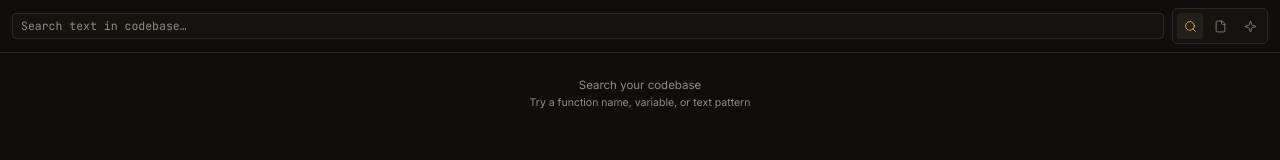
Test case: SearchPanel › ignores stale responses after switching search modes
The width and height of the screenshot is (1280, 160).
Type "authenticate" into the field at {"x": 588, "y": 26}, box x1=12 y1=13 x2=1164 y2=39
Wait 300 ms
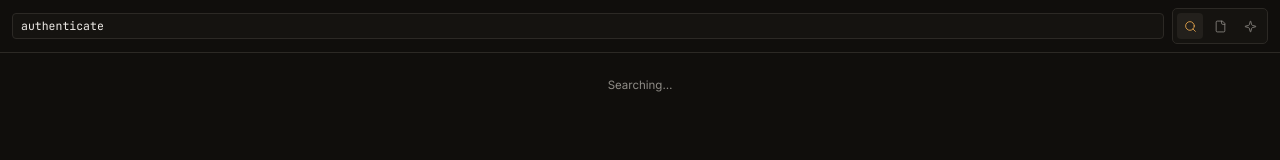
Click the radio button named "Semantic" at {"x": 1250, "y": 26}, box x1=1237 y1=13 x2=1263 y2=39
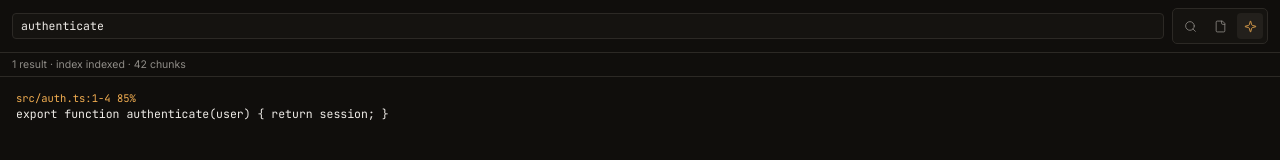
Expected: the text "src/auth.ts:1-4 85%" is shown, x1=16 y1=91 x2=136 y2=105
